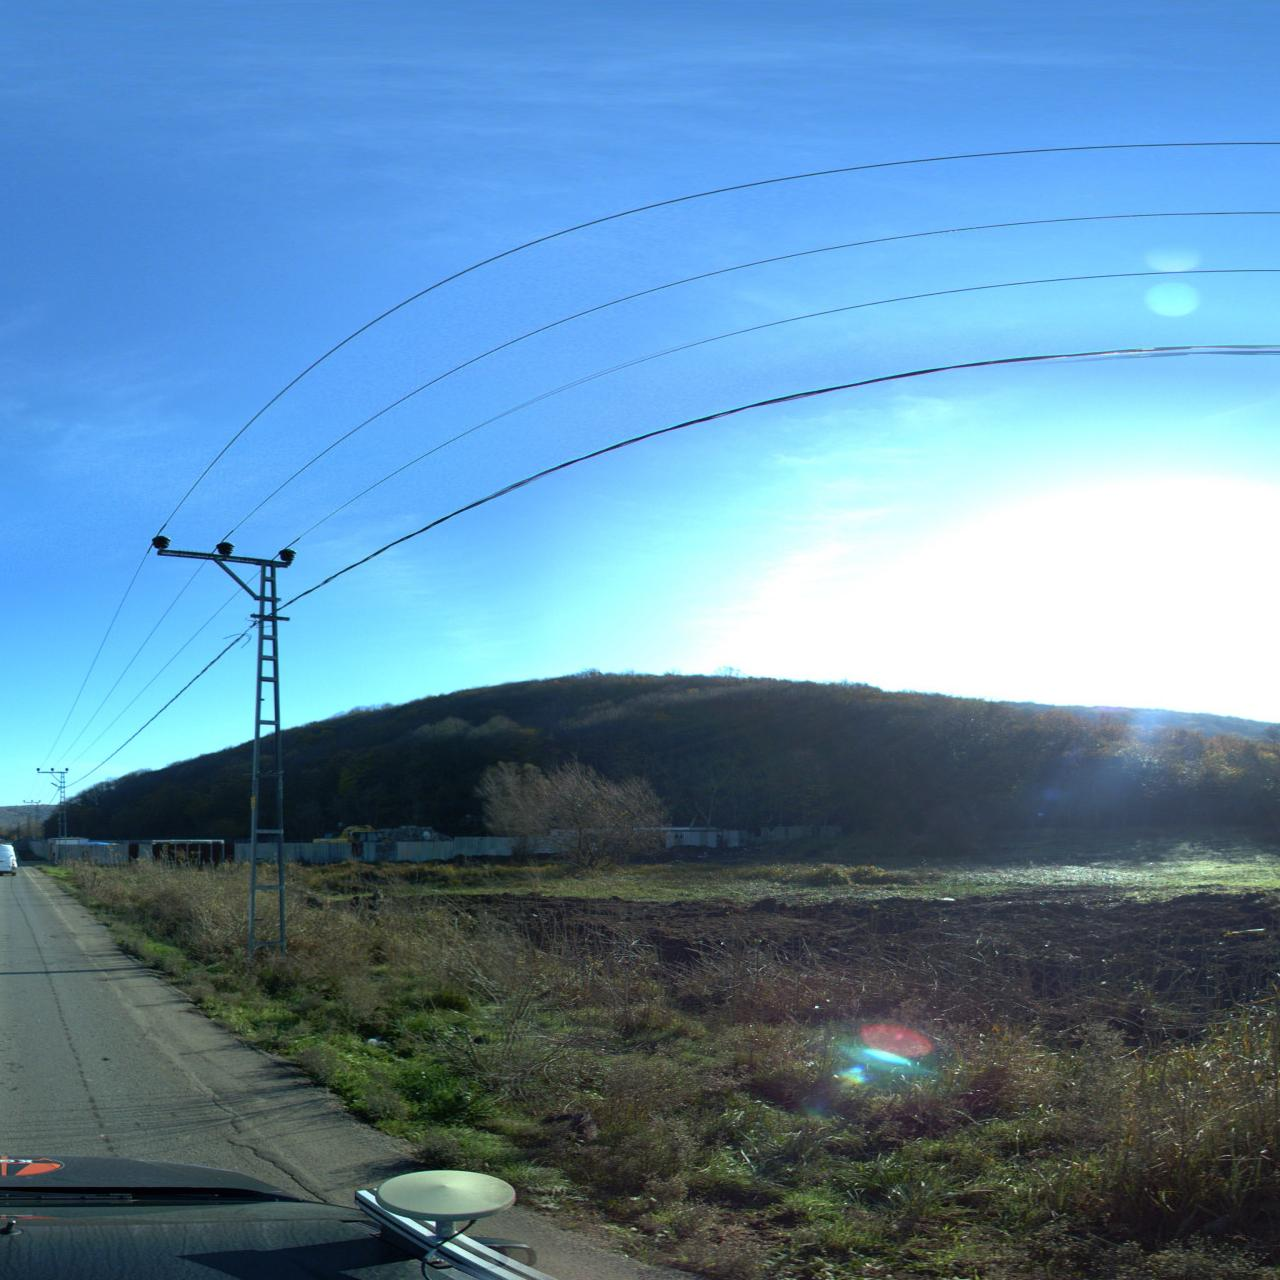Utility Pole Information Plate: (248, 796, 257, 810)
